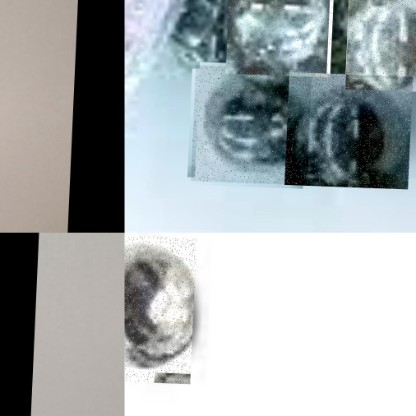ironball: (286, 70, 413, 186), (192, 63, 312, 182), (124, 233, 198, 382), (226, 0, 334, 75), (345, 0, 415, 90)
